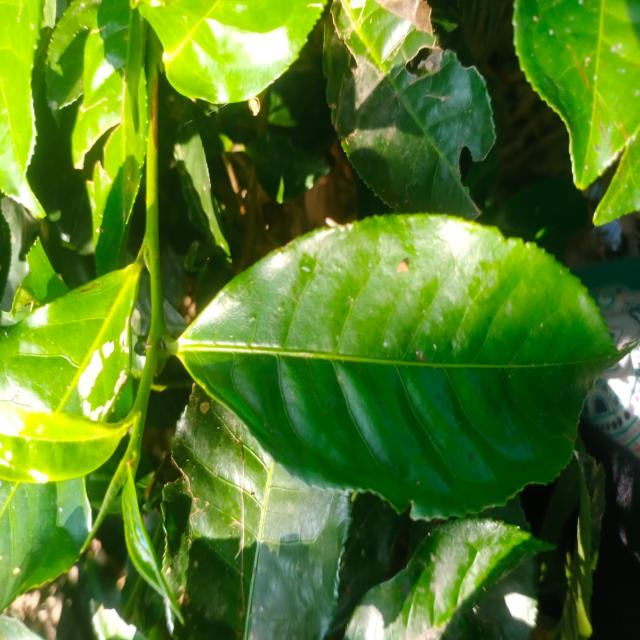Category D 7+ days, Not for Tea: (170, 211, 620, 515)
